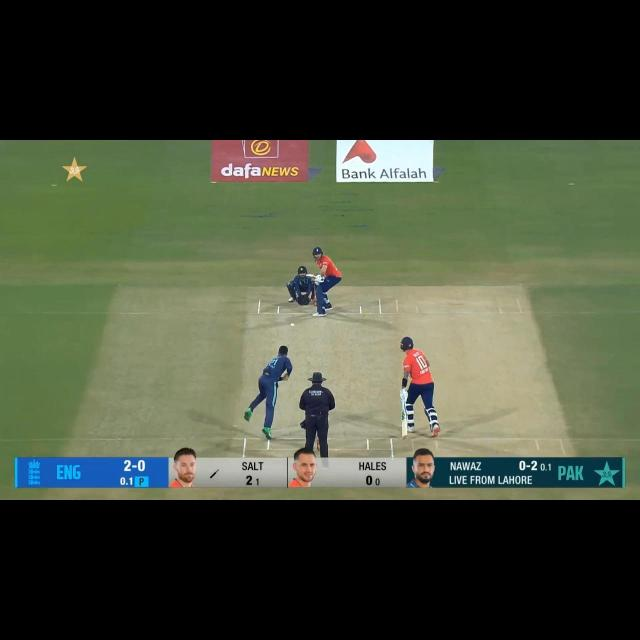bat: (399, 409, 408, 440), (305, 272, 319, 278)
toe: (400, 430, 408, 440), (306, 274, 310, 278)
